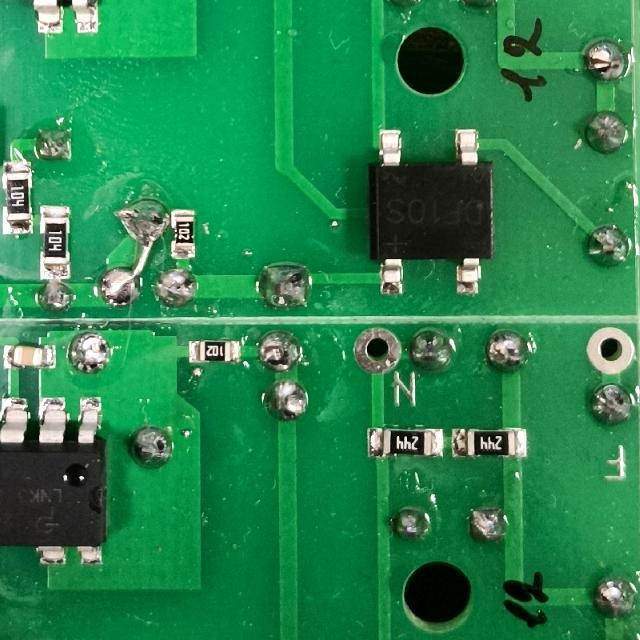chip-capacitor: (3, 342, 58, 370)
chip-resistor: (450, 426, 527, 460), (366, 426, 445, 459), (38, 203, 71, 281), (1, 159, 34, 234), (187, 337, 241, 364), (171, 208, 196, 260)
ic: (369, 125, 496, 296), (0, 394, 112, 567)
